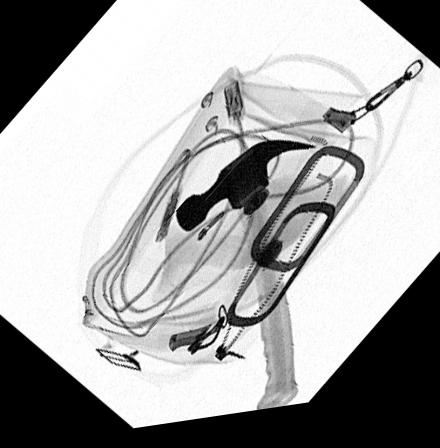Hammer: (174, 148, 316, 418)
